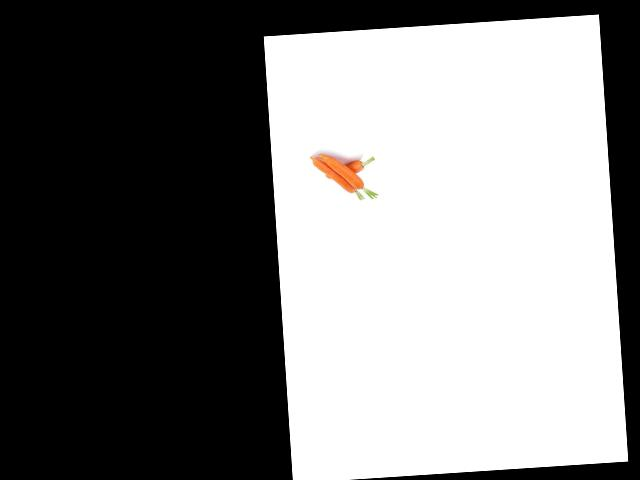carrot: (319, 158, 373, 181)
